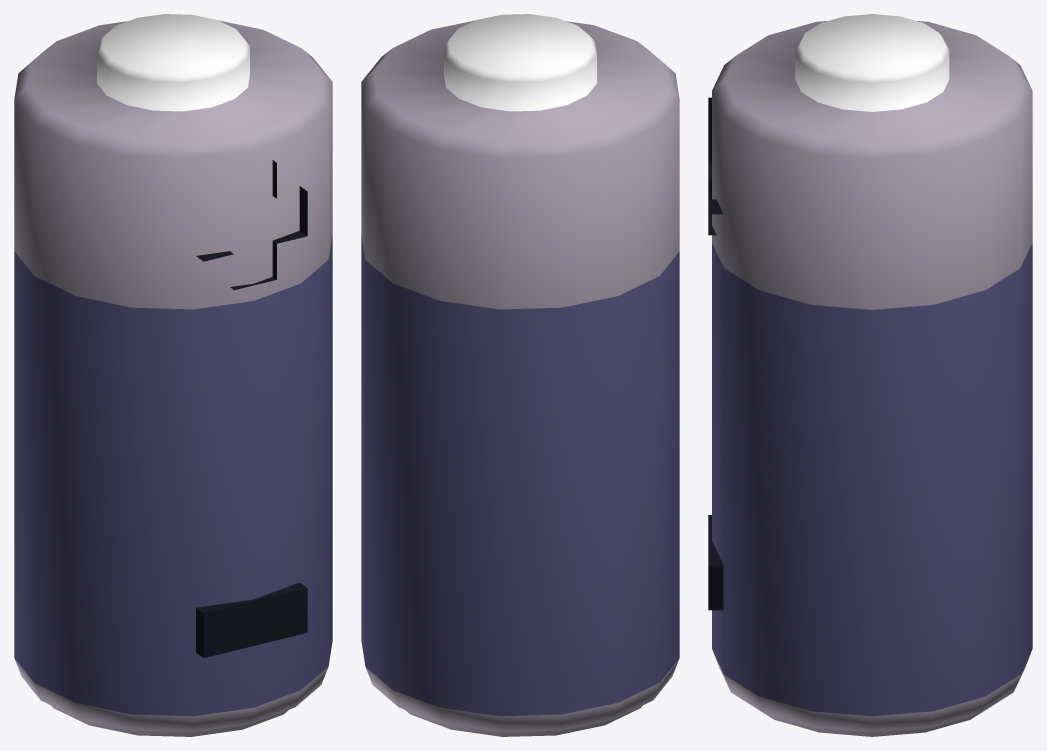
File: battery.glb
The picture shows the model from 3 angles, left to right: view 1: azimuth 30°, elevation 25°; view 2: azimuth 150°, elevation 25°; view 3: azimuth 270°, elevation 25°; orthographic projection.
Parts seen in each view (by area): view 1: Cylinder; view 2: Cylinder; view 3: Cylinder.
Part boxes in pixels (box(x1,y1,x2,y2)): Cylinder: box(14, 14, 332, 736); Cylinder: box(361, 14, 679, 736); Cylinder: box(708, 14, 1032, 736).
Size of the model in its own units: 0.4877 by 1.06 by 0.4932.
Materials: 1 (1 with a texture image).
